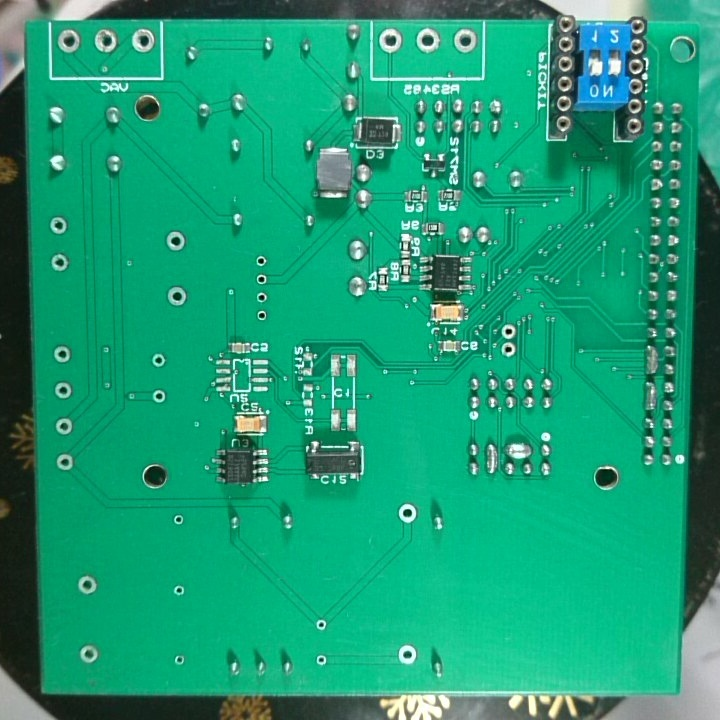F: (411, 25, 442, 55), (128, 26, 157, 57), (92, 26, 120, 56), (451, 26, 479, 55), (56, 27, 83, 56), (377, 27, 404, 56), (74, 572, 101, 598), (76, 641, 103, 667), (394, 500, 420, 526), (162, 229, 188, 255), (394, 642, 419, 668), (165, 284, 189, 311), (52, 452, 78, 475), (48, 249, 71, 275), (53, 414, 76, 439), (51, 379, 76, 402), (50, 342, 74, 365), (48, 213, 68, 238), (149, 350, 167, 371), (499, 340, 518, 359), (252, 252, 271, 271), (499, 322, 519, 340), (150, 387, 168, 407), (253, 306, 272, 324), (253, 289, 273, 306), (253, 271, 272, 288), (313, 651, 330, 669), (312, 616, 329, 634), (170, 581, 187, 599), (170, 511, 187, 529), (171, 652, 187, 670)
P: (502, 439, 533, 460), (484, 439, 500, 478), (642, 342, 660, 376), (641, 379, 658, 413)
